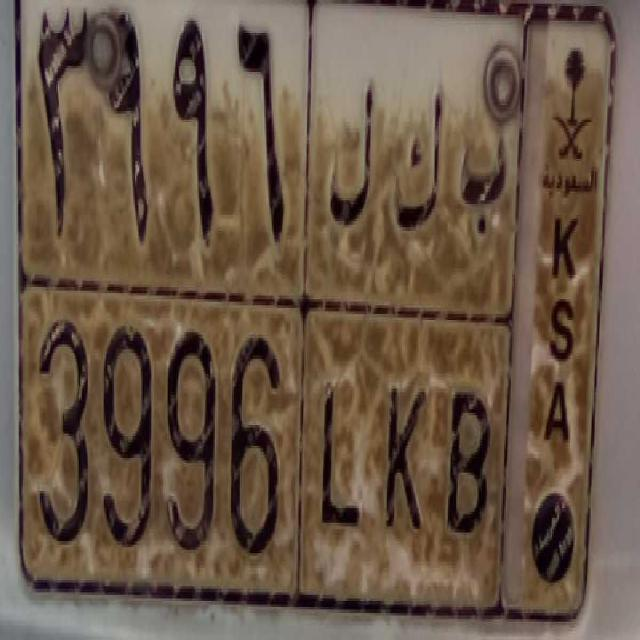license_plate: (27, 277, 500, 635)
